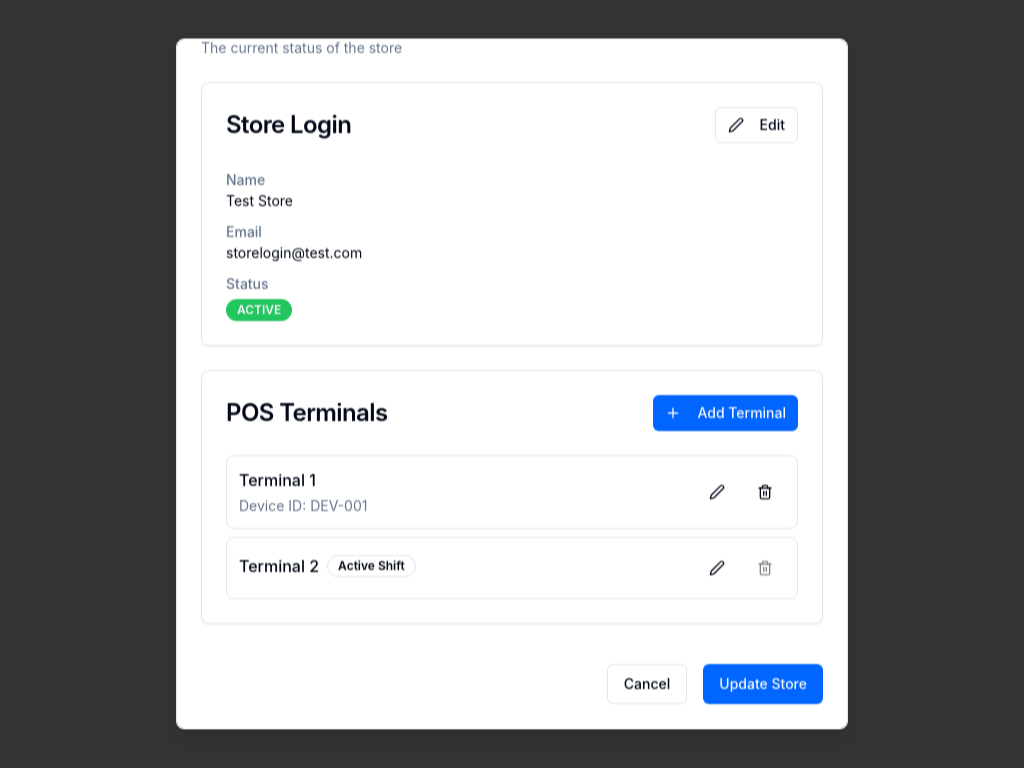
Test: 2.5-COMPONENT: EditStoreModal Component › Terminal Management Integration › [P0] 2.5-COMPONENT-020: should open create terminal dialog when Add Terminal is clicked
(page scrolled)
User clicks Add Terminal button
Click the button "Add Terminal".
click(726, 413)  # box [653, 395, 798, 431]
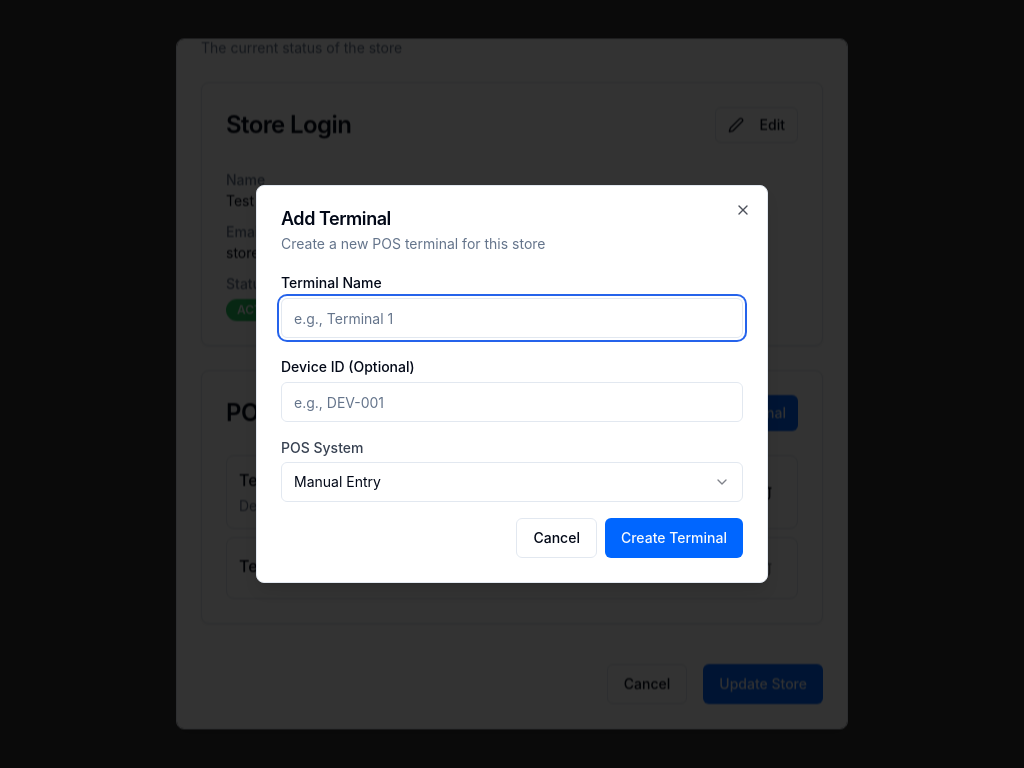
Now the heading "Add Terminal" is shown, box [281, 208, 391, 229]
Now the text "Create a new POS terminal for this store" is shown, box [281, 235, 546, 252]
